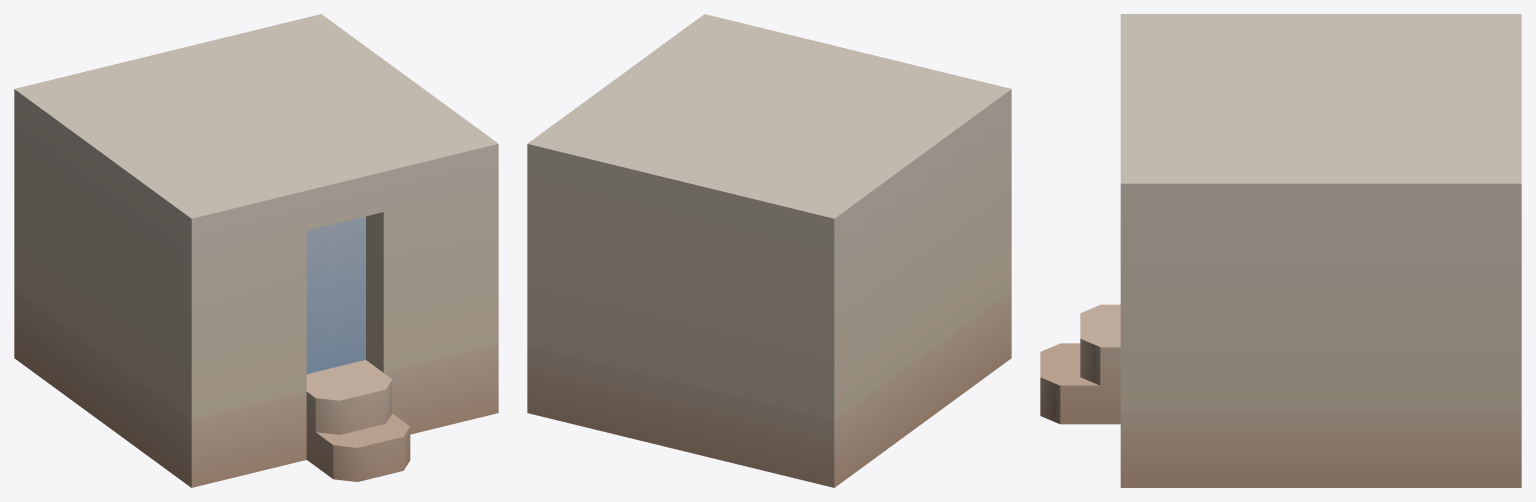
File: building-steps-narrow.glb
3 views of the same model, side by side, from view 1: azimuth 30°, elevation 25°; view 2: azimuth 150°, elevation 25°; view 3: azimuth 270°, elevation 25° (orthographic). The views are drawn at different scales.
Parts seen in each view (by area): view 1: building-steps-narrow; view 2: building-steps-narrow; view 3: building-steps-narrow.
Boxes of the visible parts, <box> form: building-steps-narrow: <box>14,14,498,487</box>; building-steps-narrow: <box>527,14,1011,487</box>; building-steps-narrow: <box>1040,14,1521,487</box>.
Size of the model in its own units: 1 by 0.8375 by 1.2.
